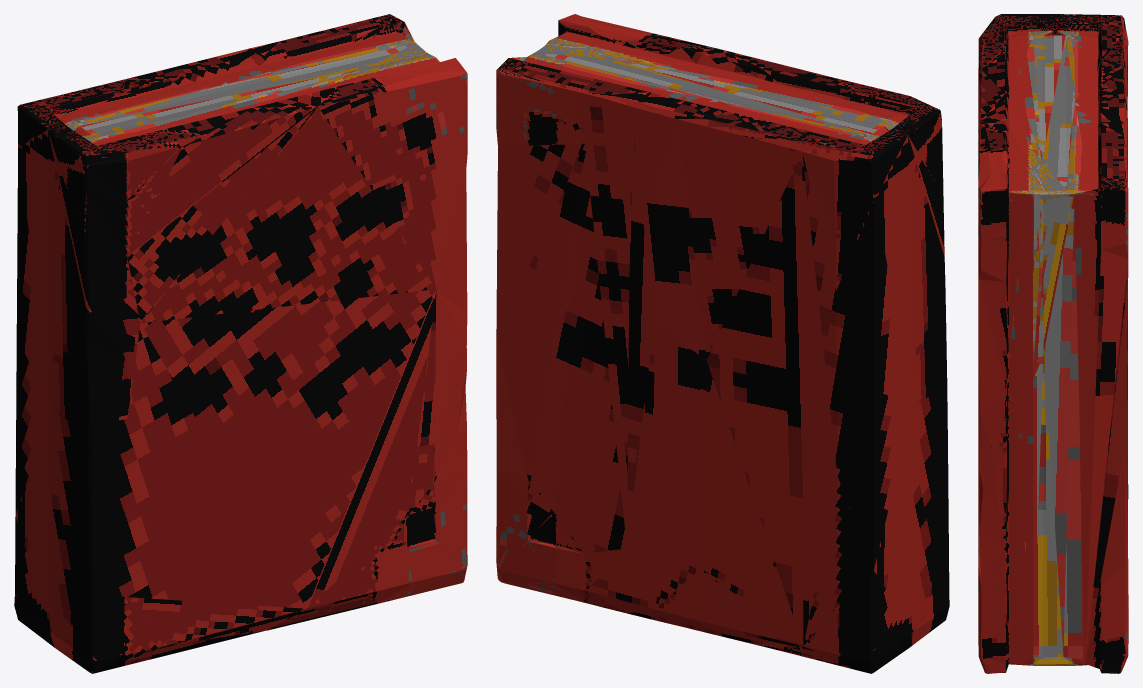
The picture shows the model from 3 angles, left to right: view 1: azimuth 30°, elevation 25°; view 2: azimuth 150°, elevation 25°; view 3: azimuth 270°, elevation 25°; orthographic projection. The views are drawn at different scales.
Parts seen in each view (by area): view 1: OBJ132; view 2: OBJ132; view 3: OBJ132.
Boxes of the visible parts, box(x1,y1,x2,y2) form: OBJ132: box(14, 14, 467, 673); OBJ132: box(496, 14, 949, 673); OBJ132: box(978, 14, 1128, 673).
Size of the model in its own units: 0.2807 by 0.3649 by 0.102.
Materials: 1 (1 with a texture image).
